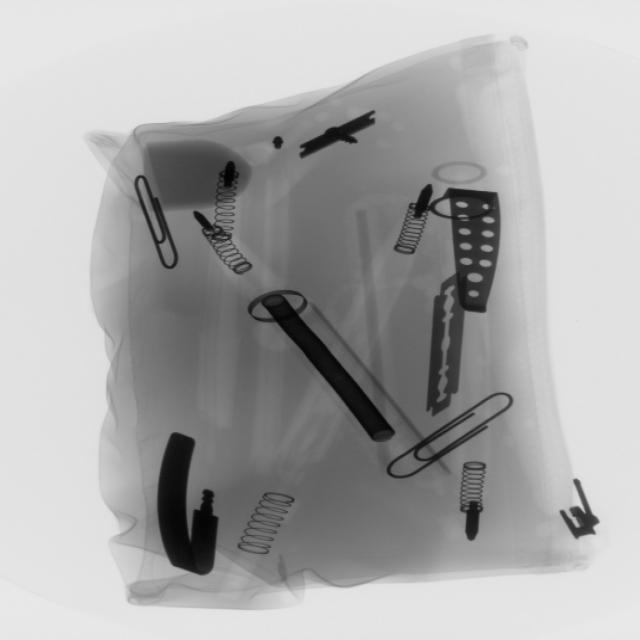BLADE: (419, 269, 476, 422)
